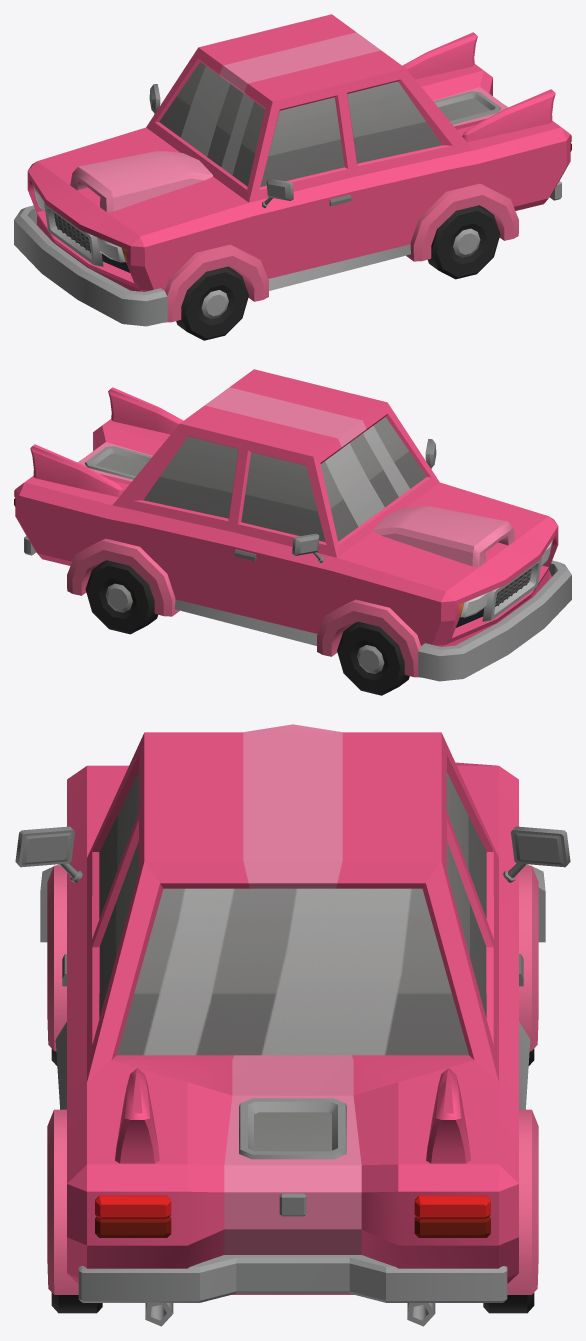
The model's file is Car_10_D.fbx.
3 views of the same model, one above another, from view 1: azimuth 30°, elevation 25°; view 2: azimuth 150°, elevation 25°; view 3: azimuth 270°, elevation 25° (orthographic). The views are drawn at different scales.
Parts seen in each view (by area): view 1: Car_10_D, RL, FL; view 2: Car_10_D, RR, FR; view 3: Car_10_D, RL, RR.
Part boxes in pixels (left/top/right/bottom): Car_10_D: left=14, top=14, right=571, bottom=326; RL: left=428, top=205, right=500, bottom=279; FL: left=176, top=266, right=248, bottom=340; Car_10_D: left=14, top=369, right=571, bottom=681; RR: left=85, top=560, right=157, bottom=634; FR: left=337, top=621, right=409, bottom=695; Car_10_D: left=15, top=724, right=570, bottom=1326; RL: left=51, top=1293, right=102, bottom=1313; RR: left=483, top=1293, right=534, bottom=1313.
Size of the model in its own units: 358 by 149 by 185.
